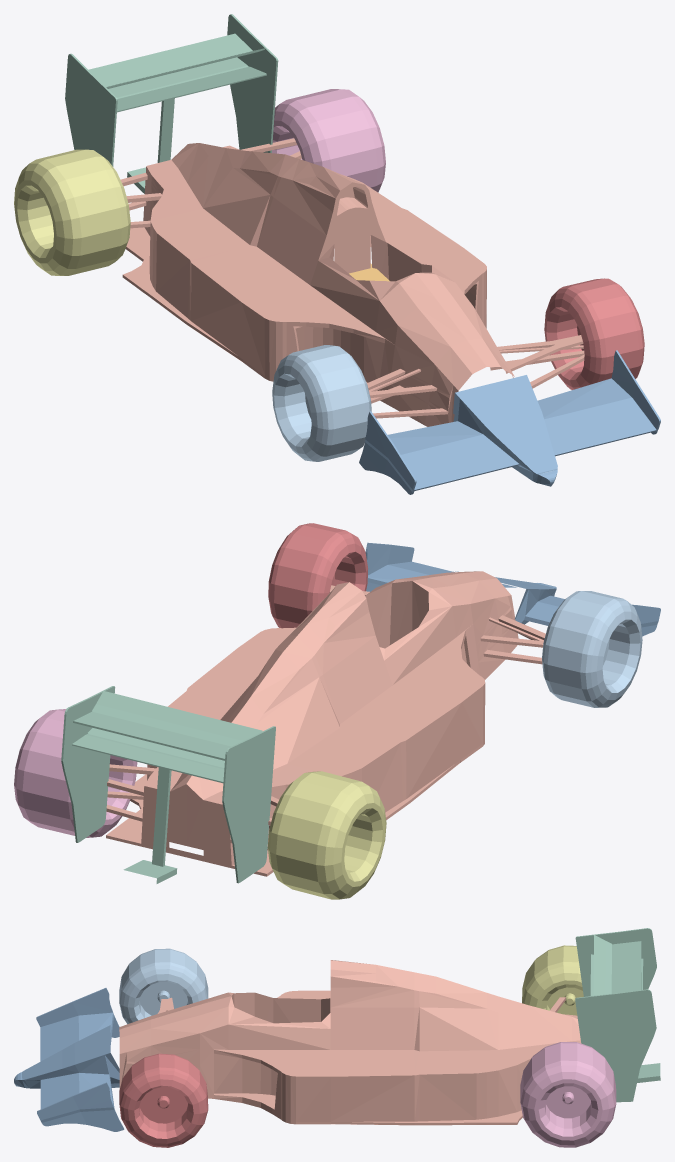
The model's file is 110851_assembly.glb.
3 views of the same model, one above another, from view 1: azimuth 30°, elevation 25°; view 2: azimuth 150°, elevation 25°; view 3: azimuth 270°, elevation 25° (orthographic). The views are drawn at different scales.
Visible parts, largest first — view 1: part_01, part_07, part_05, part_04, part_06, part_00, part_03; view 2: part_01, part_05, part_04, part_06, part_00, part_03, part_07; view 3: part_01, part_05, part_07, part_03, part_00, part_06, part_04.
Boxes of the visible parts, left/top/right/bottom form: part_01: left=120, top=138, right=584, bottom=426; part_07: left=359, top=350, right=660, bottom=494; part_05: left=65, top=14, right=278, bottom=193; part_04: left=14, top=149, right=130, bottom=275; part_06: left=272, top=345, right=371, bottom=461; part_00: left=544, top=278, right=644, bottom=389; part_03: left=272, top=89, right=385, bottom=192; part_01: left=106, top=571, right=545, bottom=876; part_05: left=61, top=686, right=275, bottom=883; part_04: left=267, top=771, right=386, bottom=899; part_06: left=542, top=591, right=642, bottom=707; part_00: left=268, top=523, right=368, bottom=628; part_03: left=14, top=709, right=137, bottom=837; part_07: left=365, top=542, right=660, bottom=636; part_01: left=119, top=960, right=581, bottom=1125; part_05: left=575, top=928, right=660, bottom=1102; part_07: left=14, top=988, right=124, bottom=1131; part_03: left=520, top=1042, right=616, bottom=1147; part_00: left=119, top=1053, right=208, bottom=1147; part_06: left=119, top=948, right=208, bottom=1024; part_04: left=522, top=945, right=583, bottom=1015.
Bounding box in the file's own units: 0.6437 × 0.3163 × 1.37.
